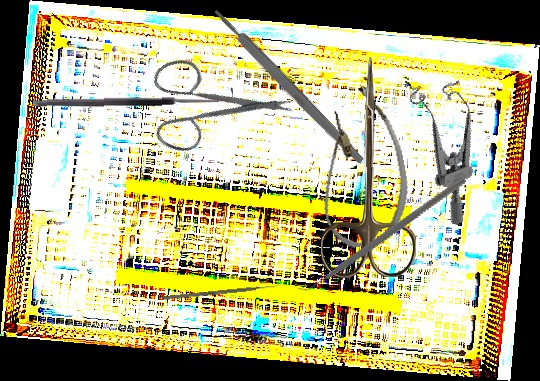Cannula: (302, 82, 419, 252)
Chopper: (291, 133, 466, 333)
Hook Surgical: (32, 86, 234, 108)
Iris Scissors: (124, 14, 300, 188), (317, 56, 417, 279)
Pusher: (162, 283, 283, 301)
Scalpel Handle: (211, 6, 366, 166)
Speculum: (395, 67, 512, 227)
